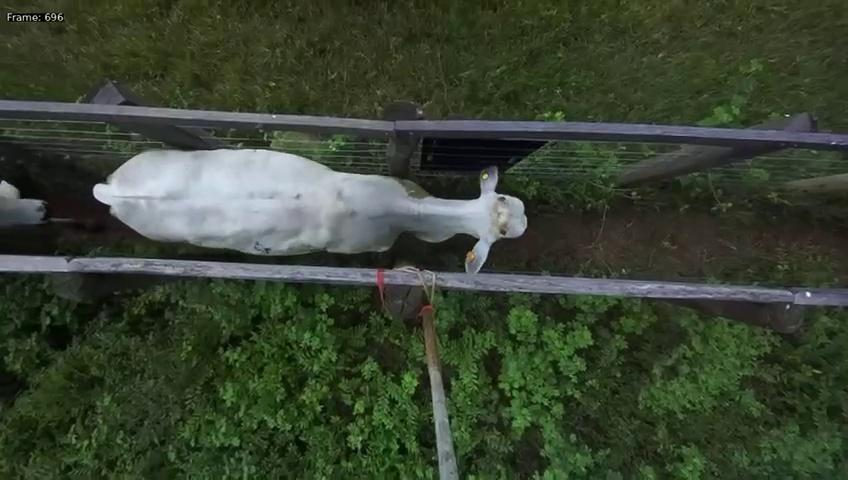cattle: (69, 134, 528, 273)
